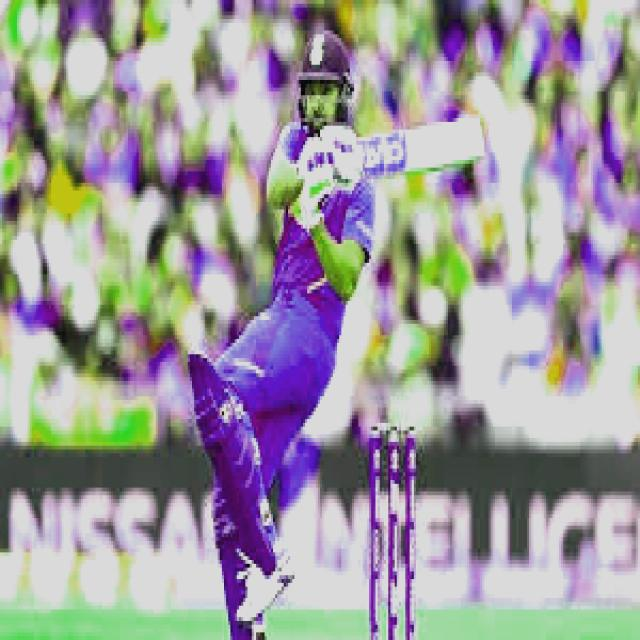toe: (438, 116, 488, 166)
